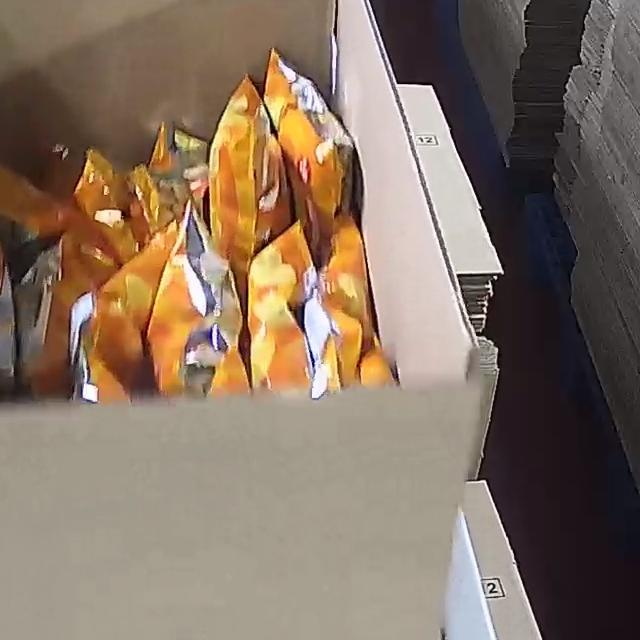cheese: (0, 82, 412, 390)
